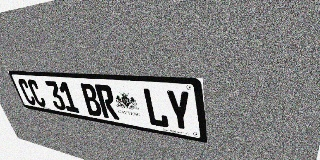1: (56, 81, 80, 113)
3: (45, 81, 67, 111)
B: (79, 83, 104, 117)
C: (26, 79, 47, 107), (17, 79, 37, 106)
L: (142, 88, 170, 129)
R: (94, 84, 120, 120)
Y: (164, 89, 194, 133)
